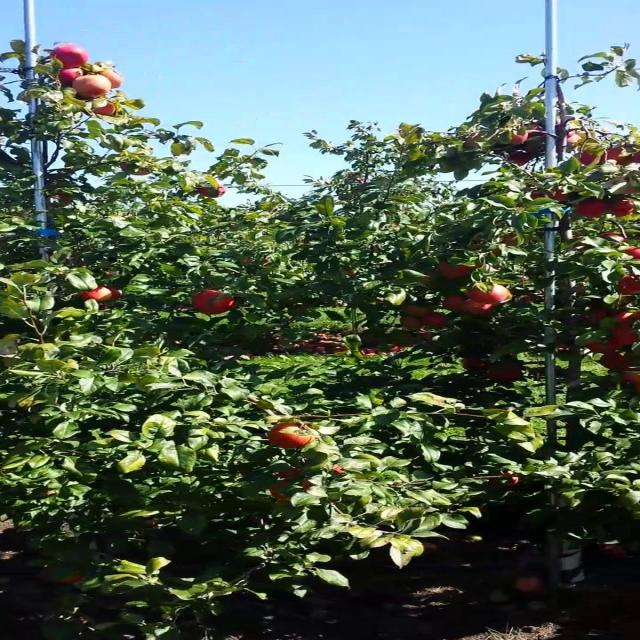apple: (269, 422, 318, 448), (191, 289, 236, 314), (71, 75, 111, 99), (51, 44, 89, 68), (469, 284, 511, 304), (42, 566, 82, 585), (487, 361, 522, 382), (573, 199, 609, 218), (80, 286, 122, 302), (609, 326, 638, 348), (436, 262, 473, 279), (420, 271, 451, 291), (607, 148, 640, 165), (196, 181, 227, 198), (489, 471, 520, 488), (462, 299, 493, 316), (467, 240, 502, 255), (600, 351, 629, 369), (582, 305, 609, 324), (587, 339, 622, 353), (269, 479, 291, 501), (609, 199, 636, 216), (100, 69, 124, 88), (442, 294, 467, 312), (618, 275, 640, 295), (524, 136, 547, 155), (120, 161, 151, 175), (422, 312, 449, 328), (58, 68, 84, 84), (613, 310, 640, 325), (400, 304, 431, 317), (463, 358, 491, 372), (507, 151, 533, 166), (91, 102, 118, 116), (622, 369, 640, 389), (464, 132, 484, 149), (556, 114, 573, 134), (51, 191, 73, 206), (564, 130, 587, 144), (524, 124, 544, 138), (549, 188, 569, 202), (276, 468, 300, 479), (400, 316, 420, 329), (578, 151, 598, 164), (527, 125, 547, 138), (509, 132, 529, 145), (500, 232, 518, 246), (556, 114, 569, 133), (600, 232, 624, 242), (511, 132, 529, 145), (624, 246, 640, 260), (529, 189, 547, 199), (331, 464, 344, 474), (302, 480, 313, 488)
